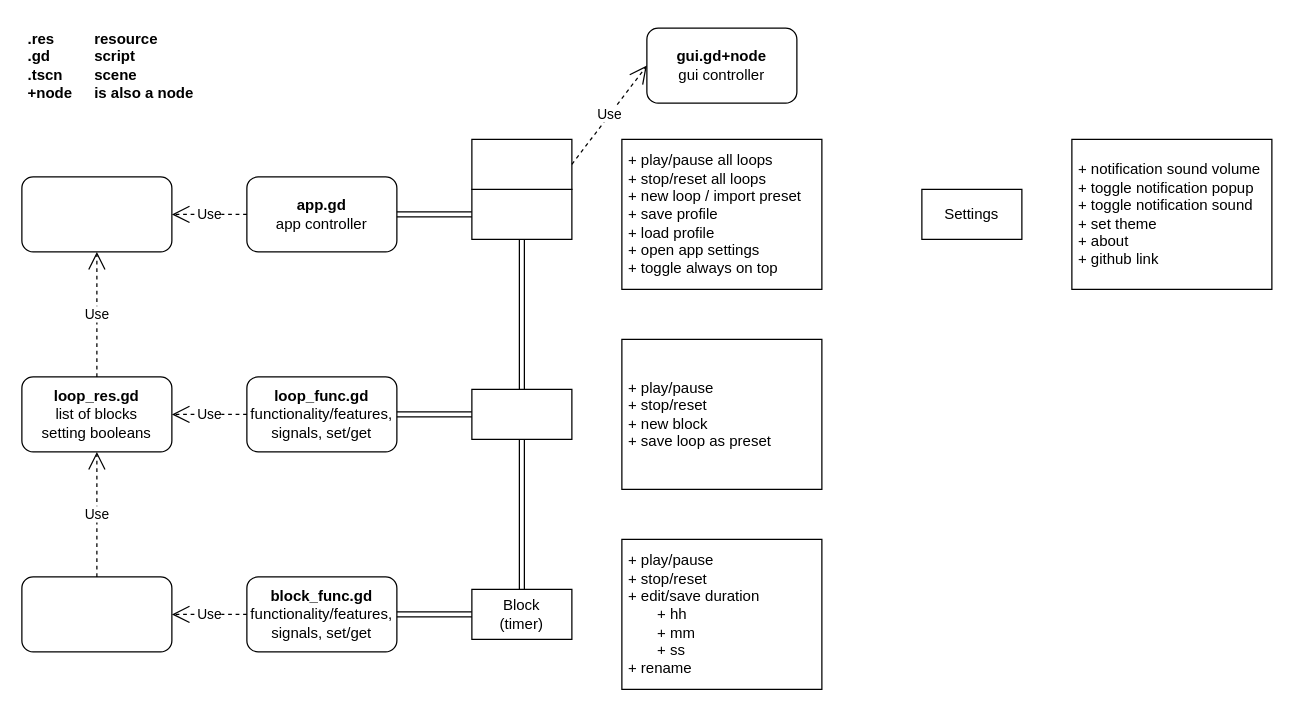
Some shapes in this 1294 by 711 pixel diagram are drawn without their labels. The centre of each missing label's shape, as x and y in pixels:
"App (main)" goes at point (521, 213).
"block_res.gd duration setting booleans" goes at point (96, 614).
"GUI+node" goes at point (521, 163).
"Loop (bar)" goes at point (521, 413).
"profile_res.gd list of loops setting booleans" goes at point (96, 214).
